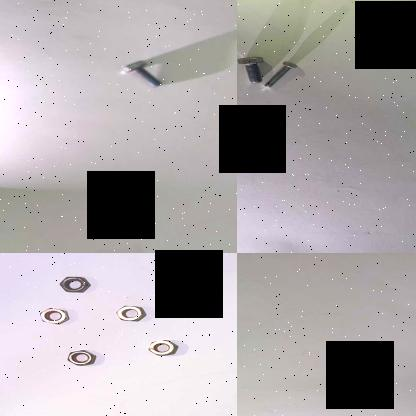Bolts: (118, 57, 170, 90), (264, 60, 298, 89), (237, 51, 265, 84)
NUTS: (53, 273, 95, 295), (113, 304, 149, 322), (38, 306, 72, 324), (146, 338, 180, 356), (66, 348, 98, 366)
